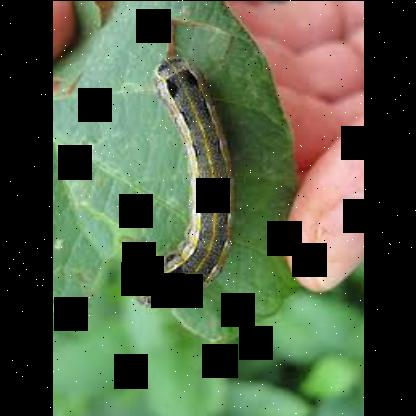oruga: (126, 49, 226, 323)
